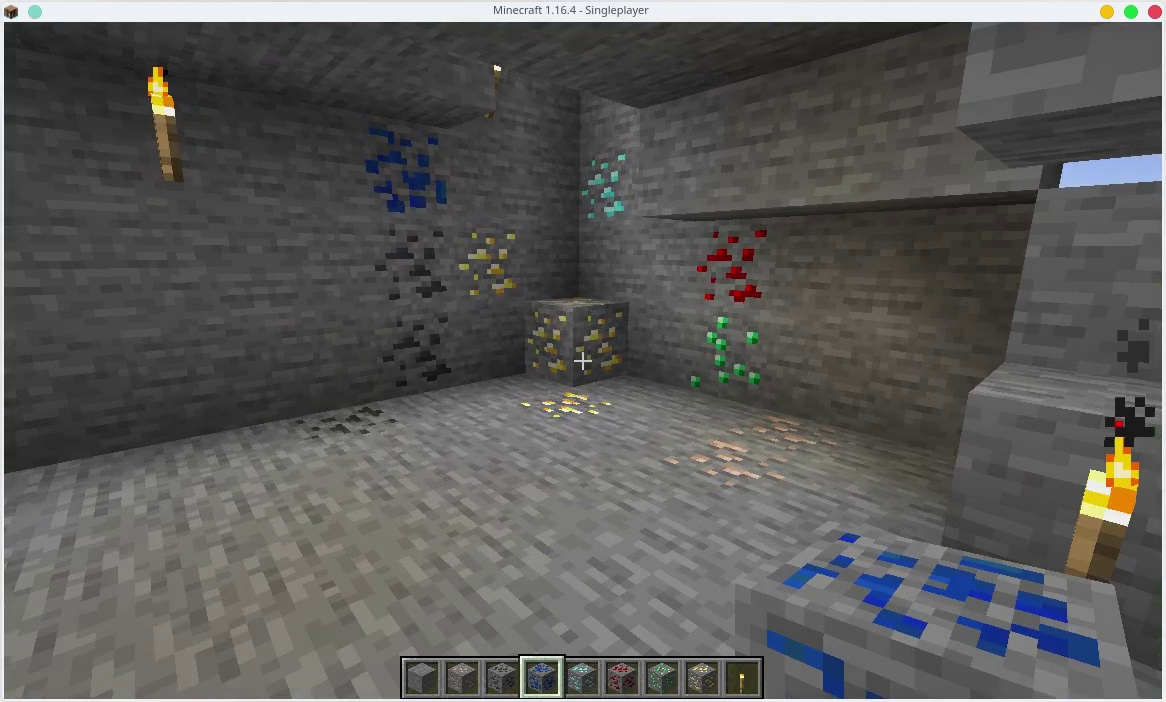gold: (523, 298, 631, 381), (454, 232, 521, 297), (519, 389, 621, 425), (686, 665, 717, 694)
